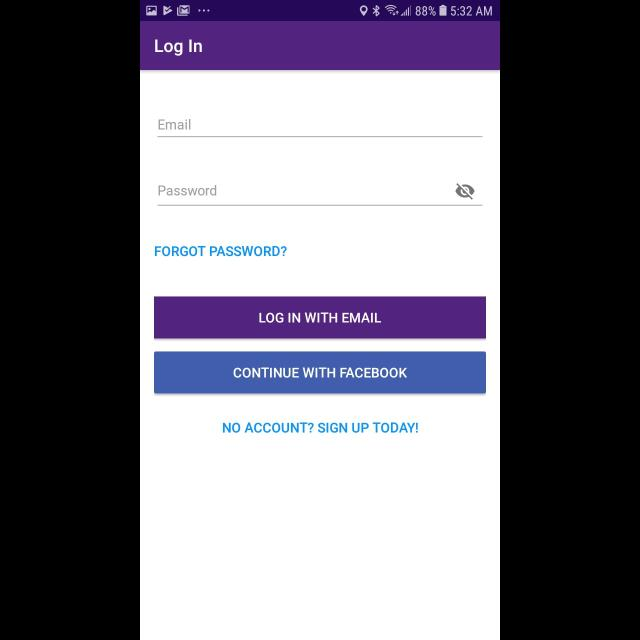icon: (456, 183, 474, 200)
input: (158, 184, 482, 206), (158, 119, 482, 138)
text: (224, 422, 418, 433), (156, 246, 288, 256), (155, 40, 203, 56), (159, 184, 217, 196), (159, 120, 191, 130)
textbutton: (154, 352, 486, 394), (154, 297, 486, 339)
uppertaskbar: (140, 1, 500, 22)
